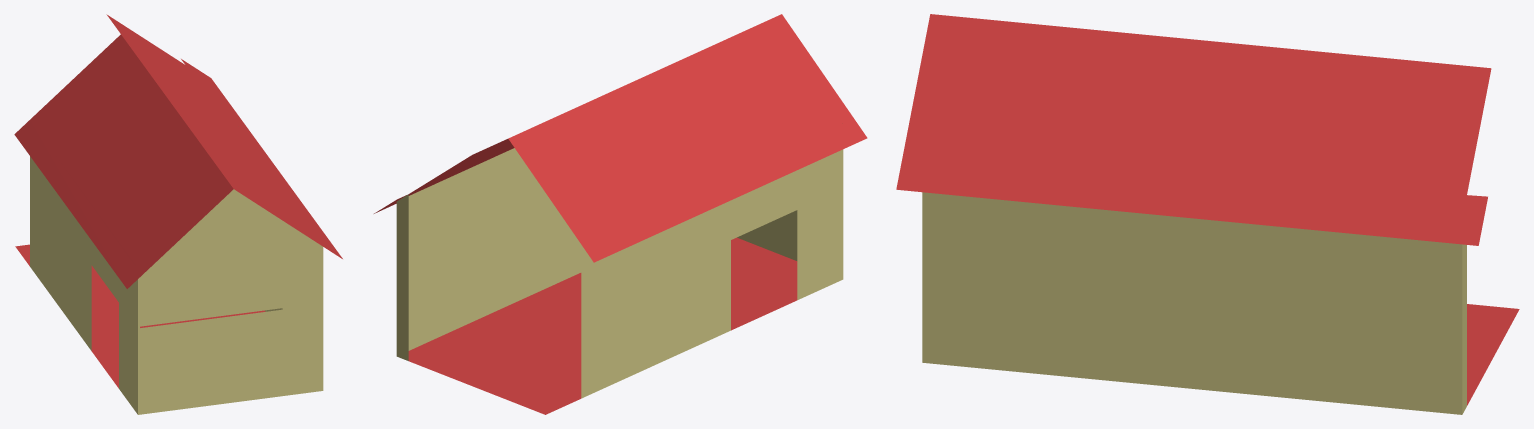
3 views of the same model, side by side, from view 1: azimuth 30°, elevation 25°; view 2: azimuth 150°, elevation 25°; view 3: azimuth 270°, elevation 25° (orthographic). The views are drawn at different scales.
Size of the model in its own units: 19.6 by 28.66 by 14.85.
